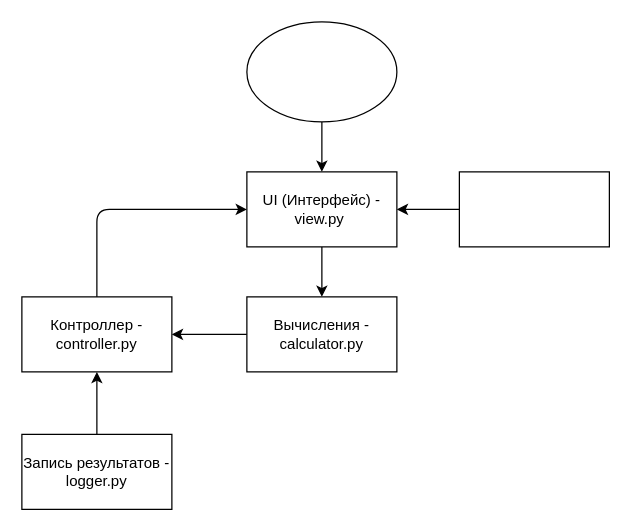
Some shapes in this 631 by 531 pixel diagram are drawn without their labels. The box of each missing label's shape, as (x1, y1, x2, y2) in pixels:
Запуск - main.py: (246, 21, 397, 122)
Проверка ввода - check.py: (458, 171, 609, 247)
